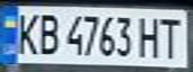3: (112, 12, 139, 59)
4: (60, 11, 84, 56)
6: (97, 12, 118, 57)
7: (78, 11, 100, 56)
B: (33, 10, 63, 56)
H: (136, 14, 163, 58)
K: (12, 9, 42, 56)
T: (157, 15, 187, 60)
